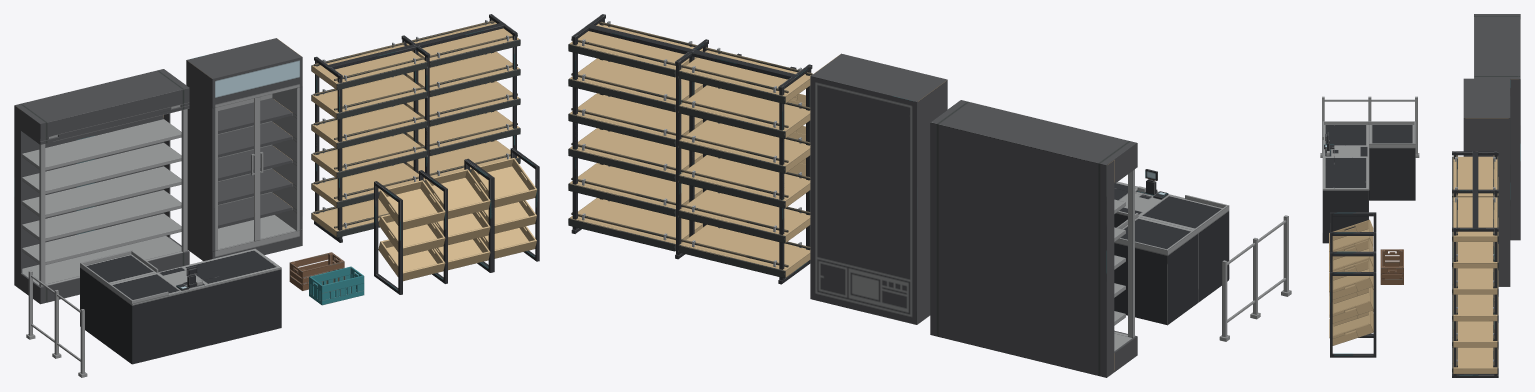
Rendered from MarketItems.obj.
The picture shows the model from 3 angles, left to right: view 1: azimuth 30°, elevation 25°; view 2: azimuth 150°, elevation 25°; view 3: azimuth 270°, elevation 25°; orthographic projection. The views are drawn at different scales.
Visible parts, largest first — view 1: Model; view 2: Model; view 3: Model.
Boxes of the visible parts, <box> form: Model: <box>14,14,539,377</box>; Model: <box>568,14,1291,377</box>; Model: <box>1320,14,1520,377</box>.
Size of the model in its own units: 364 by 128 by 137.
1 material, 1 textured.
